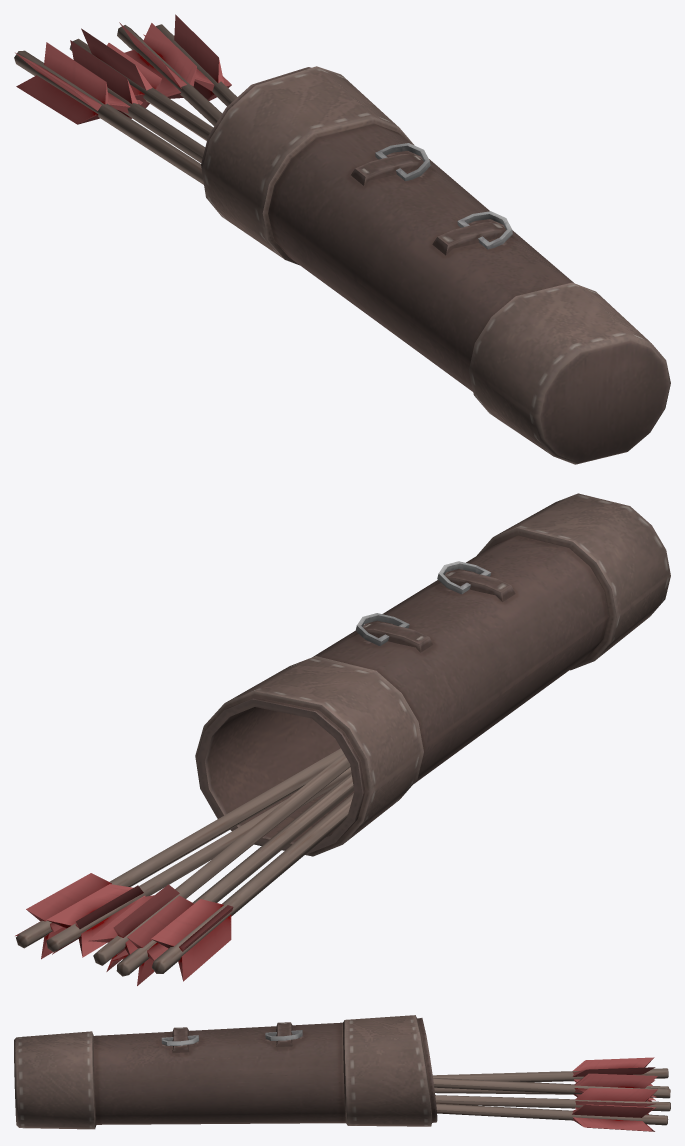
3 renders of one model, top to bottom at view 1: azimuth 30°, elevation 25°; view 2: azimuth 150°, elevation 25°; view 3: azimuth 270°, elevation 25°, orthographic. The views are drawn at different scales.
Parts seen in each view (by area): view 1: submesh_0; view 2: submesh_0; view 3: submesh_0.
Part boxes in pixels (box(x1,y1,x2,y2)): submesh_0: box(14, 14, 670, 464); submesh_0: box(15, 493, 670, 985); submesh_0: box(14, 1015, 670, 1131).
Size of the model in its own units: 0.1482 by 0.1242 by 0.7676.
Materials: 1 (1 with a texture image).
